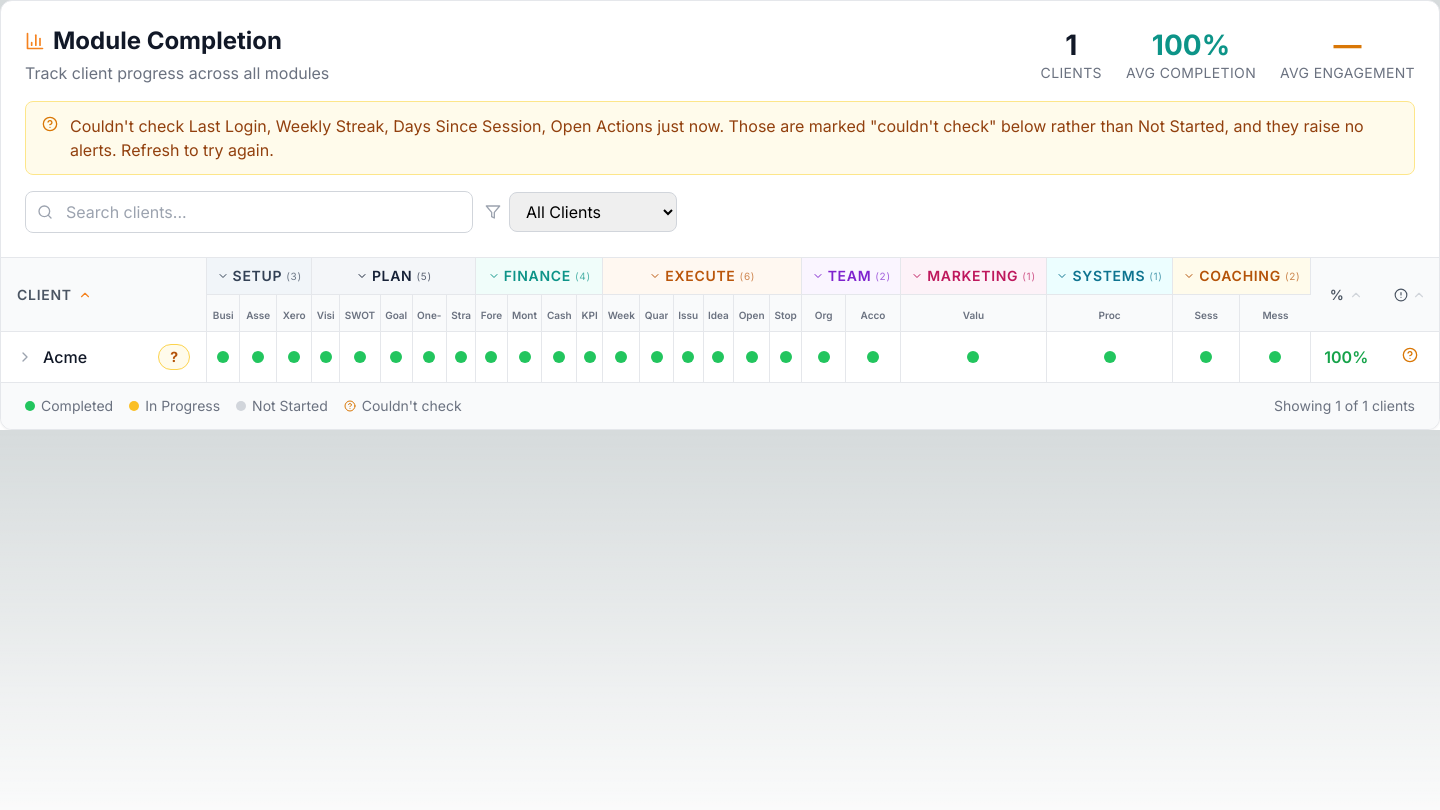
numbers built on an unchecked module say so › the expanded row says "Couldn't check" rather than "Never" / "No sessions" / 0
This screenshot has width=1440, height=810.
Step 1. Click the text "Acme" → (65, 357), box [43, 347, 87, 367]
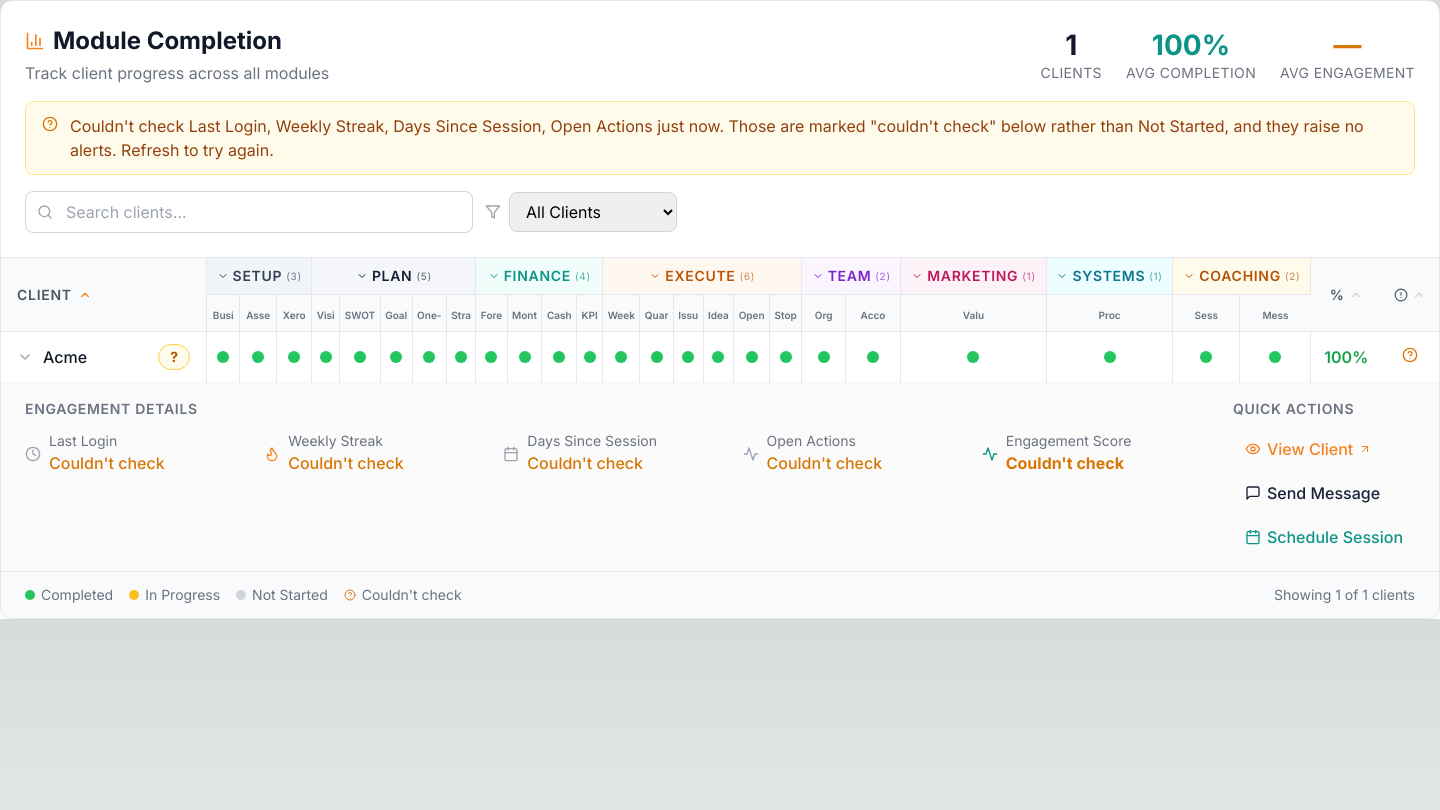
Check: the text "Couldn't check" is shown 5 times, box [49, 453, 165, 473]; [288, 453, 404, 473]; [527, 453, 643, 473]; [766, 453, 882, 473]; [1006, 453, 1124, 473]
